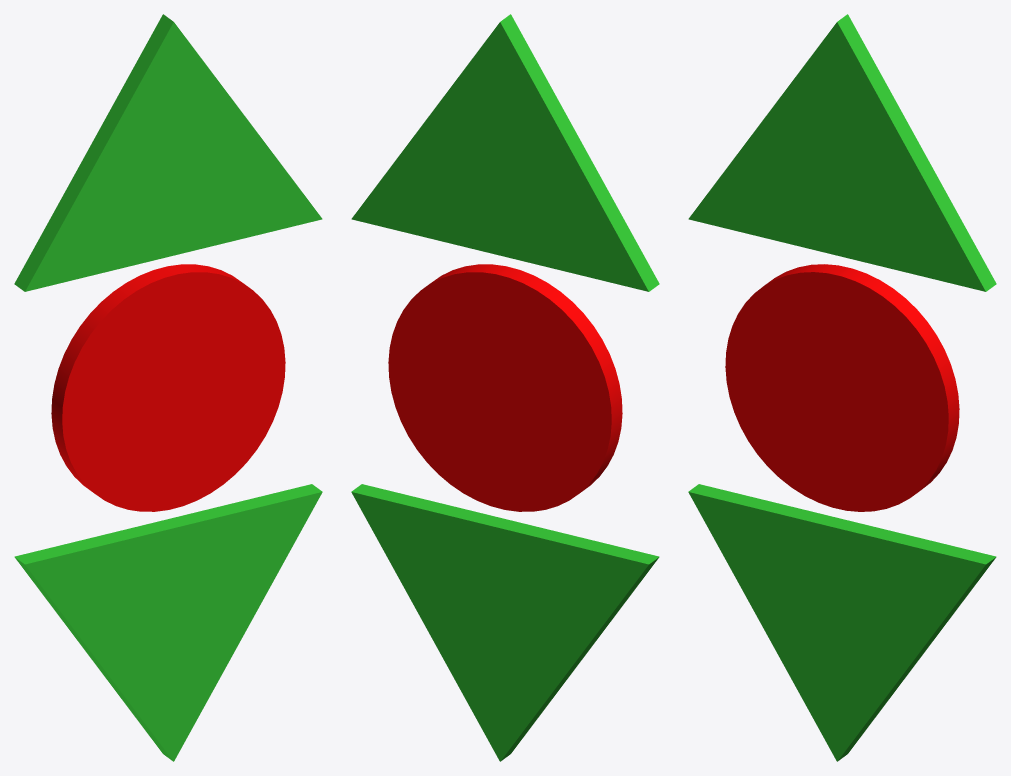
Rendered from Rollershutter.fbx.
3 views of the same model, side by side, from view 1: azimuth 30°, elevation 25°; view 2: azimuth 150°, elevation 25°; view 3: azimuth 330°, elevation 25° (orthographic).
Parts seen in each view (by area): view 1: Model, Komponente_1_1, Komponente_1_2; view 2: Model, Komponente_1_1, Komponente_1_2; view 3: Model, Komponente_1_1, Komponente_1_2.
Boxes of the visible parts, x1,y1,x2,y2 form: Model: (51, 264, 285, 511); Komponente_1_1: (14, 484, 322, 761); Komponente_1_2: (14, 14, 322, 291); Model: (388, 264, 622, 511); Komponente_1_1: (351, 484, 659, 761); Komponente_1_2: (351, 14, 659, 291); Model: (725, 264, 959, 511); Komponente_1_1: (688, 484, 996, 761); Komponente_1_2: (688, 14, 996, 291).
Bounding box in the file's own units: 0.8 × 1.9 × 0.05.
